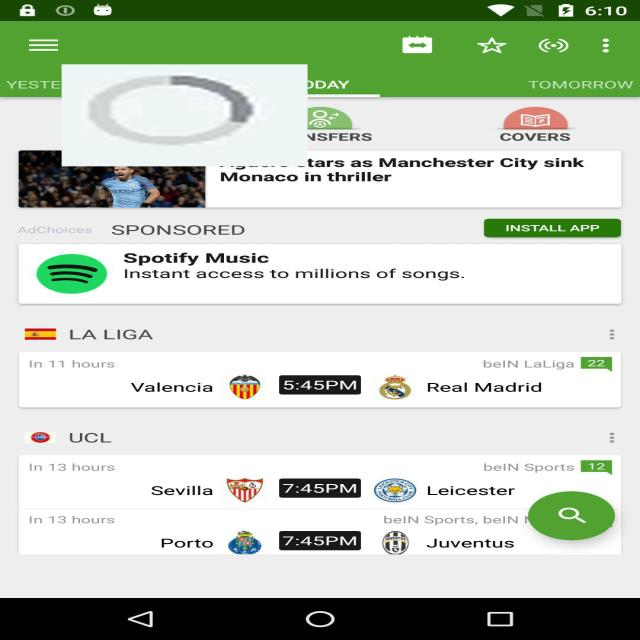misdirection: (61, 65, 308, 166)
